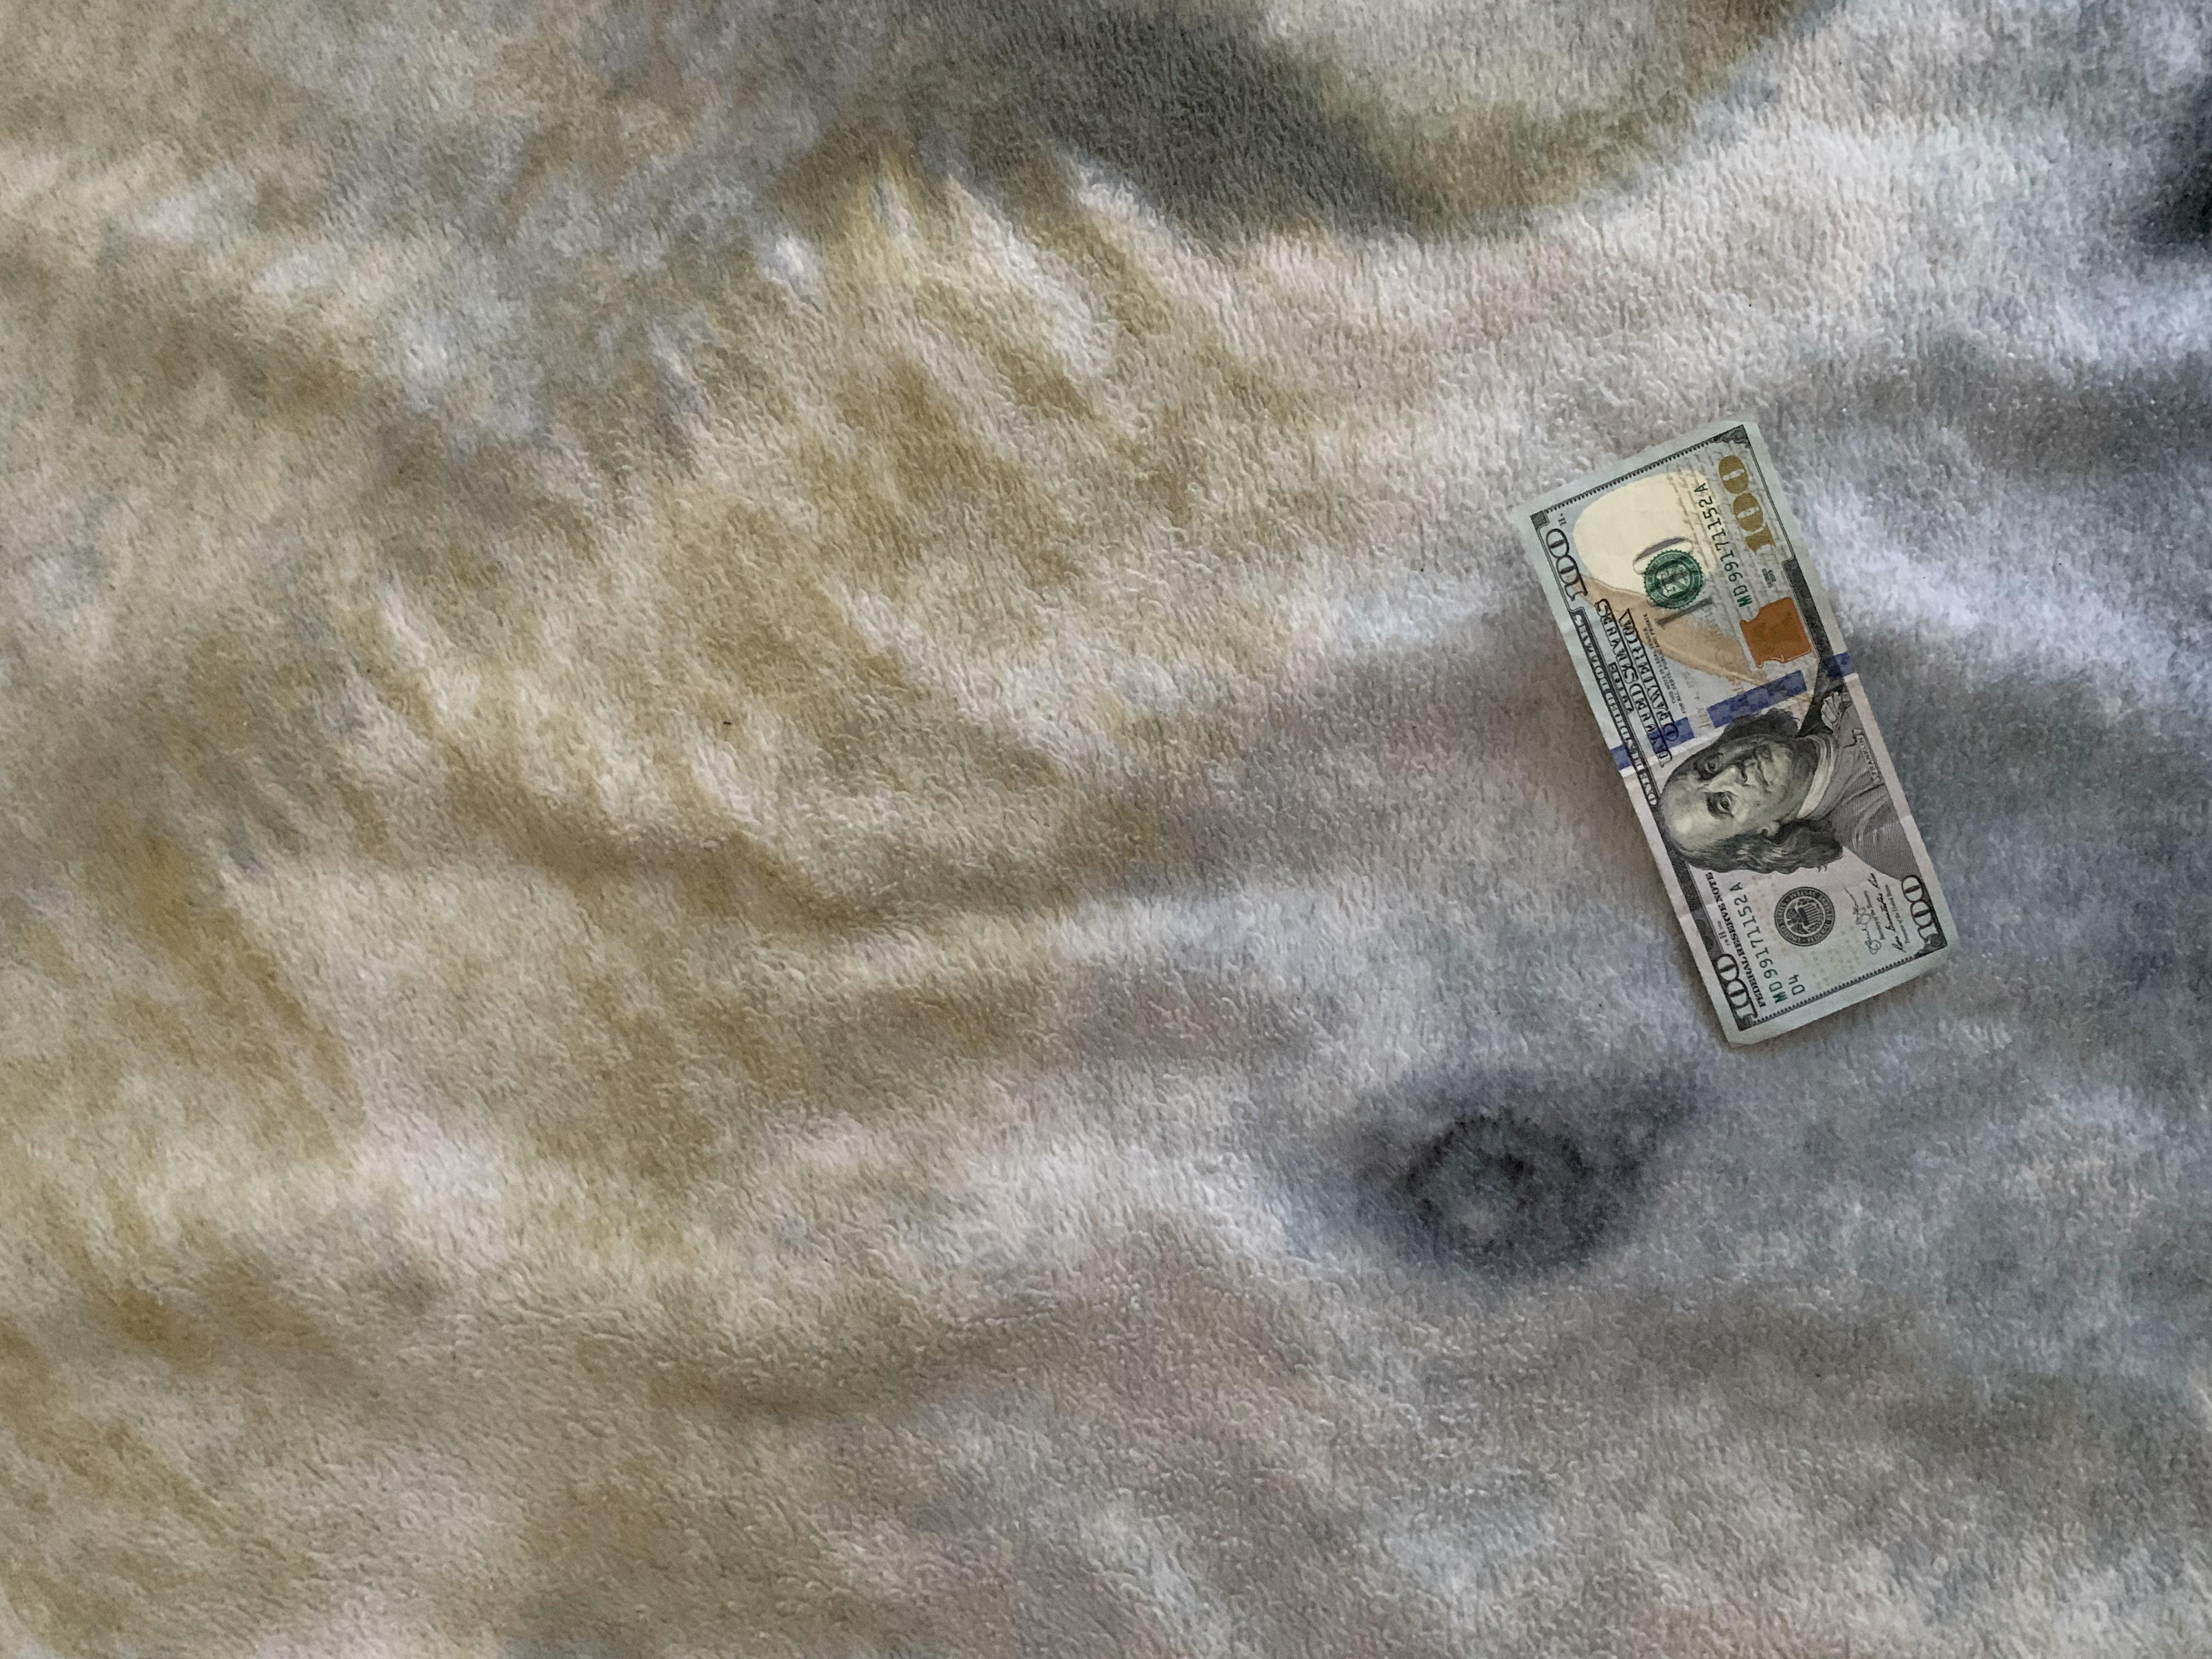HundredBill: (1514, 410, 1958, 1051)
